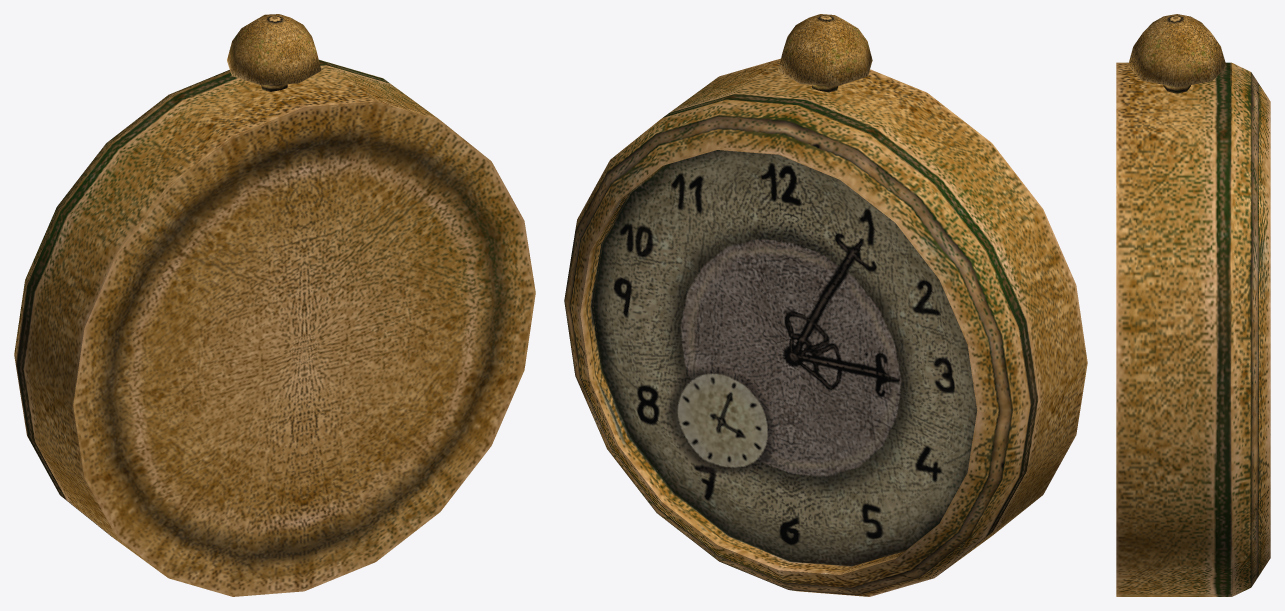
Rendered from BACK_CLOCK.fbx.
3 renders of one model, left to right at view 1: azimuth 30°, elevation 25°; view 2: azimuth 150°, elevation 25°; view 3: azimuth 270°, elevation 25°, orthographic.
Parts seen in each view (by area): view 1: BACK_CLOCK; view 2: BACK_CLOCK; view 3: BACK_CLOCK.
Boxes of the visible parts, box(x1,y1,x2,y2) form: BACK_CLOCK: box(14, 14, 535, 596); BACK_CLOCK: box(564, 14, 1087, 596); BACK_CLOCK: box(1116, 14, 1270, 596).
Bounding box in the file's own units: 0.0381 × 0.0435 × 0.0109.
